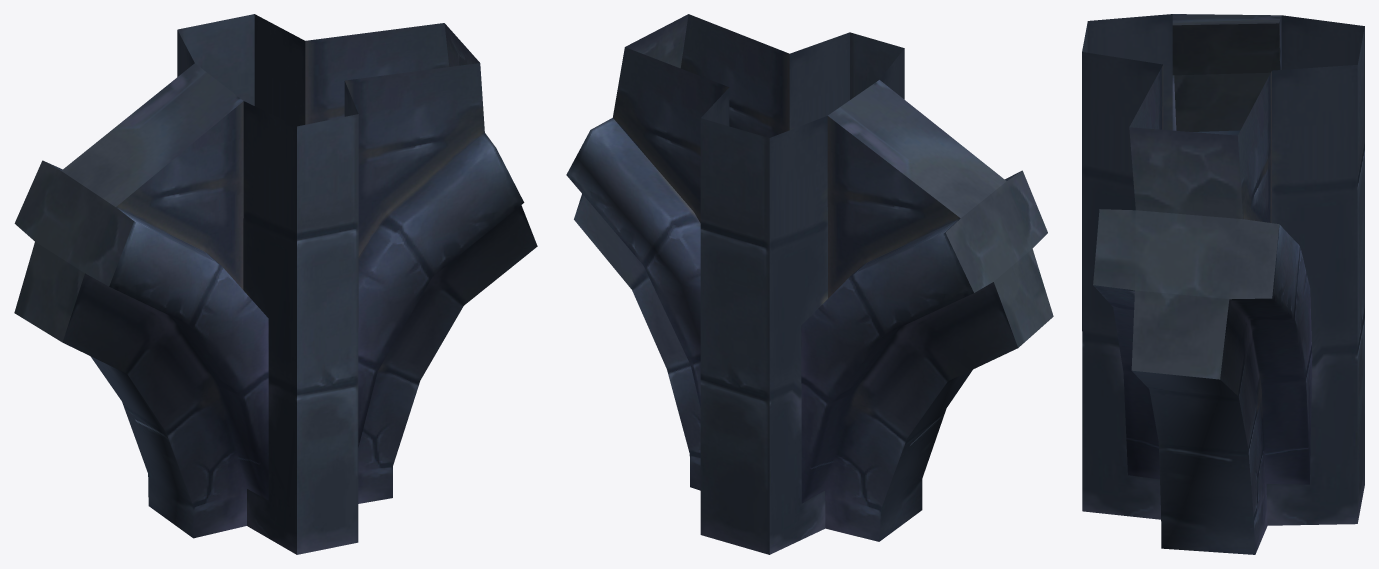
File: Juesexuanze_zhuzi01.FBX
3 views of the same model, side by side, from view 1: azimuth 30°, elevation 25°; view 2: azimuth 150°, elevation 25°; view 3: azimuth 270°, elevation 25° (orthographic). The views are drawn at different scales.
Parts seen in each view (by area): view 1: Juesexuanze_zhuzi01; view 2: Juesexuanze_zhuzi01; view 3: Juesexuanze_zhuzi01.
Part boxes in pixels (left/top/right/bottom): Juesexuanze_zhuzi01: left=14, top=14, right=537, bottom=554; Juesexuanze_zhuzi01: left=566, top=14, right=1053, bottom=554; Juesexuanze_zhuzi01: left=1082, top=14, right=1364, bottom=554.
Bounding box in the file's own units: 59.7 × 28.54 × 51.17.
